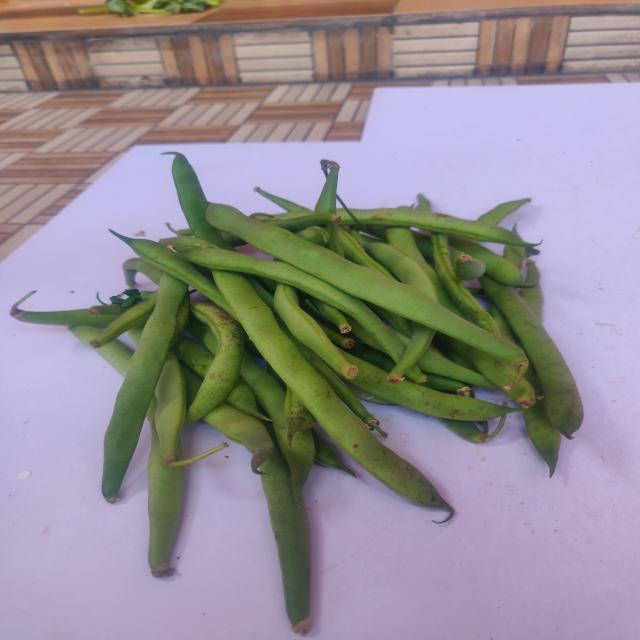Beans: (212, 270, 453, 513), (206, 203, 526, 366), (100, 273, 187, 503), (181, 248, 393, 340), (480, 275, 584, 439), (342, 352, 521, 421), (184, 303, 244, 425), (351, 208, 537, 247), (337, 208, 354, 225)
